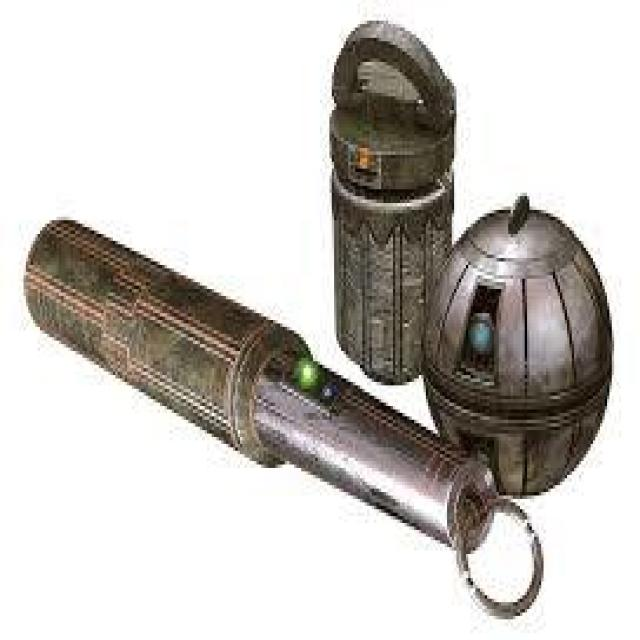grenade: (7, 192, 497, 612), (428, 205, 628, 497), (325, 17, 454, 382)
